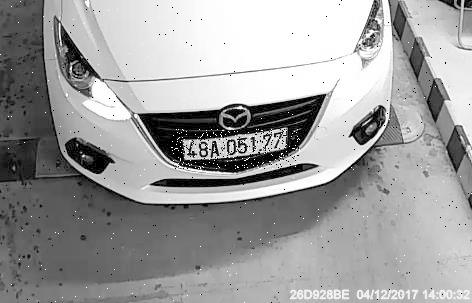License-plate: (173, 130, 301, 170)
